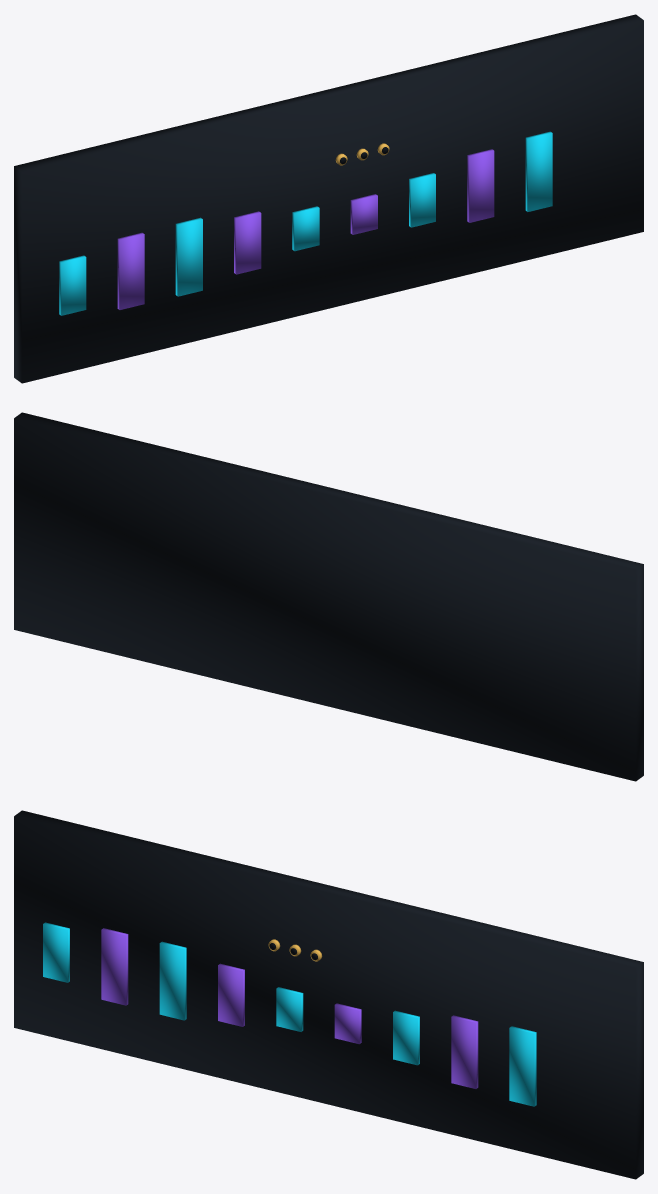
File: 12_L93_AsteroidCompositionWallDisplay.fbx
3 views of the same model, one above another, from view 1: azimuth 30°, elevation 25°; view 2: azimuth 150°, elevation 25°; view 3: azimuth 330°, elevation 25° (orthographic).
Parts seen in each view (by area): view 1: L92_AsteroidCompositionWallDisplay_Part_0000, L92_AsteroidCompositionWallDisplay_Part_0001, L92_AsteroidCompositionWallDisplay_Part_0002; view 2: L92_AsteroidCompositionWallDisplay_Part_0000; view 3: L92_AsteroidCompositionWallDisplay_Part_0000, L92_AsteroidCompositionWallDisplay_Part_0001, L92_AsteroidCompositionWallDisplay_Part_0002.
Part boxes in pixels (x1,y1,x2,y2): L92_AsteroidCompositionWallDisplay_Part_0000: [14, 14, 643, 383]; L92_AsteroidCompositionWallDisplay_Part_0001: [59, 131, 552, 315]; L92_AsteroidCompositionWallDisplay_Part_0002: [117, 149, 494, 309]; L92_AsteroidCompositionWallDisplay_Part_0000: [14, 412, 643, 781]; L92_AsteroidCompositionWallDisplay_Part_0000: [14, 810, 643, 1179]; L92_AsteroidCompositionWallDisplay_Part_0001: [43, 922, 536, 1106]; L92_AsteroidCompositionWallDisplay_Part_0002: [101, 928, 478, 1088].
Bounding box in the file's own units: 800 × 260 × 88.2.
